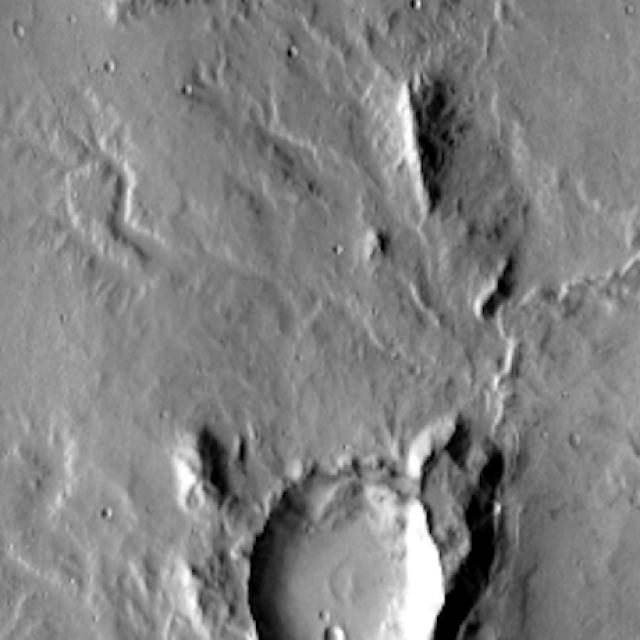Crater: (183, 386, 546, 640), (595, 441, 639, 640), (21, 0, 335, 20)
